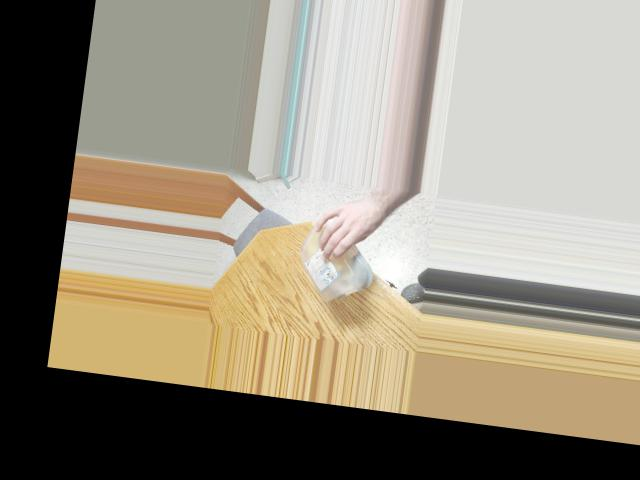cheese: (291, 204, 377, 308)
